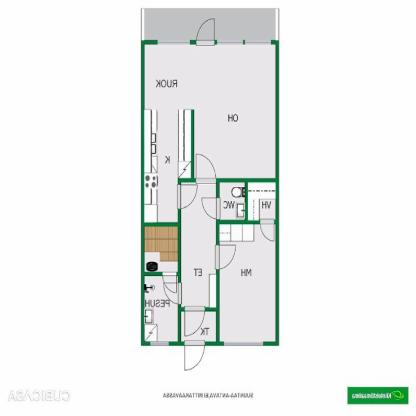door: (184, 342, 205, 372), (214, 244, 238, 270), (184, 306, 205, 335), (194, 152, 214, 182), (177, 183, 200, 209), (196, 16, 215, 45), (201, 195, 220, 218), (258, 218, 274, 244), (163, 284, 181, 303), (161, 271, 177, 291)
window: (223, 340, 264, 348), (158, 39, 190, 46), (245, 40, 272, 46), (217, 40, 243, 46), (149, 341, 168, 346)
zone: (145, 44, 275, 221), (218, 224, 274, 341), (143, 8, 276, 41), (181, 178, 214, 307), (144, 276, 178, 342), (145, 226, 178, 272), (247, 181, 274, 219), (219, 182, 245, 219), (182, 312, 216, 340)
